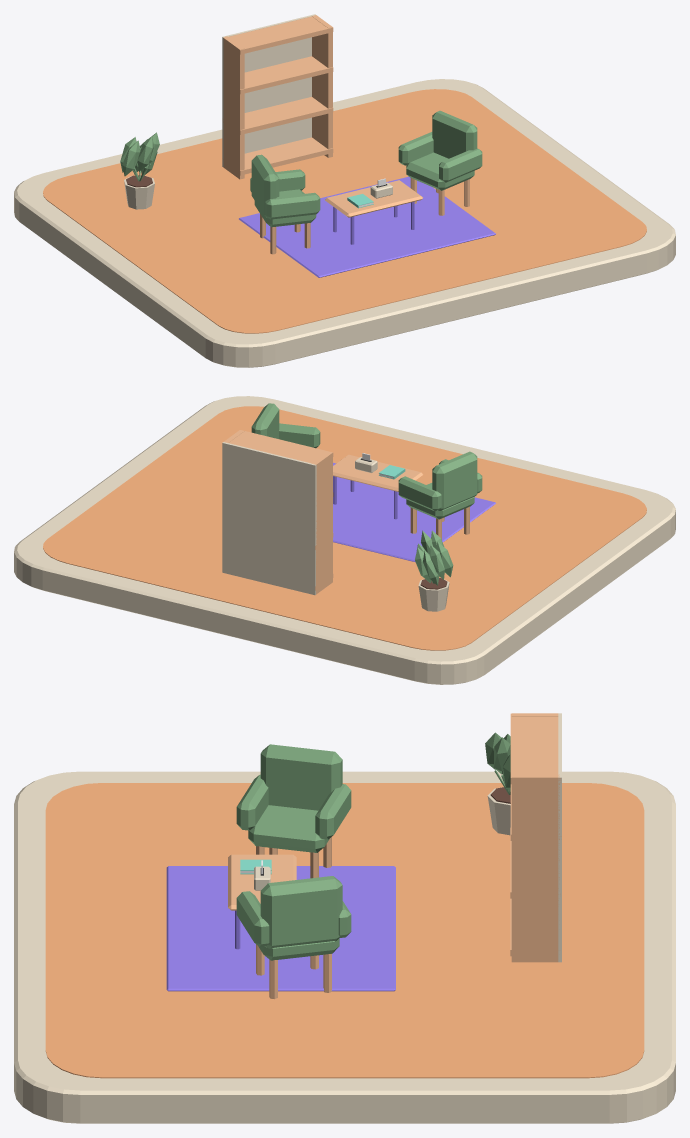
The model's file is room.fbx.
3 views of the same model, one above another, from view 1: azimuth 30°, elevation 25°; view 2: azimuth 150°, elevation 25°; view 3: azimuth 270°, elevation 25° (orthographic). The views are drawn at different scales.
Visible parts, largest first — view 1: COM-02 Floor Surface, COM-01 Rounded Base Direct, Rug, Back.002, Side, Pot, Side.001, Shelf.003, Shelf.001, Shelf.002, Back.001, Shelf (+8 smaller); view 2: COM-02 Floor Surface, COM-01 Rounded Base Direct, Back.002, Rug, Pot, Side, Back, Shelf.003, Rounded table top, Arm.001, Arm.003, Back.001 (+1 smaller); view 3: COM-02 Floor Surface, COM-01 Rounded Base Direct, Rug, Side.001, Back.001, Back, Shelf.003, Cushion, Pot, Rounded table top, Arm.001, Arm (+3 smaller).
Part boxes in pixels (x1=…): COM-02 Floor Surface: x1=43, y1=89, x2=646, y2=333; COM-01 Rounded Base Direct: x1=14, y1=79, x2=675, y2=367; Rug: x1=239, y1=176, x2=495, y2=277; Back.002: x1=222, y1=14, x2=315, y2=167; Side: x1=223, y1=36, x2=244, y2=179; Pot: x1=120, y1=132, x2=159, y2=209; Side.001: x1=312, y1=15, x2=332, y2=157; Shelf.003: x1=225, y1=16, x2=333, y2=54; Shelf.001: x1=222, y1=97, x2=333, y2=134; Shelf.002: x1=223, y1=56, x2=333, y2=94; Back.001: x1=432, y1=110, x2=477, y2=158; Shelf: x1=222, y1=137, x2=333, y2=175; COM-02 Floor Surface: x1=43, y1=406, x2=646, y2=650; COM-01 Rounded Base Direct: x1=14, y1=396, x2=675, y2=684; Back.002: x1=222, y1=442, x2=316, y2=595; Rug: x1=333, y1=462, x2=495, y2=562; Pot: x1=415, y1=530, x2=453, y2=611; Side: x1=311, y1=451, x2=332, y2=594; Back: x1=432, y1=451, x2=477, y2=510; Shelf.003: x1=229, y1=430, x2=333, y2=468; Rounded table top: x1=333, y1=454, x2=422, y2=491; Arm.001: x1=398, y1=476, x2=441, y2=511; Arm.003: x1=279, y1=423, x2=320, y2=448; Back.001: x1=251, y1=403, x2=279, y2=438; COM-02 Floor Surface: x1=45, y1=783, x2=644, y2=1078; COM-01 Rounded Base Direct: x1=14, y1=771, x2=675, y2=1123; Rug: x1=166, y1=866, x2=395, y2=991; Side.001: x1=511, y1=774, x2=559, y2=962; Back.001: x1=260, y1=876, x2=342, y2=948; Back: x1=260, y1=744, x2=342, y2=810; Shelf.003: x1=510, y1=713, x2=560, y2=784; Cushion: x1=248, y1=805, x2=329, y2=852; Pot: x1=485, y1=732, x2=510, y2=835; Rounded table top: x1=228, y1=854, x2=296, y2=910; Arm.001: x1=315, y1=784, x2=351, y2=839; Arm: x1=236, y1=774, x2=268, y2=830.
Size of the model in its own units: 600 by 190 by 520.
